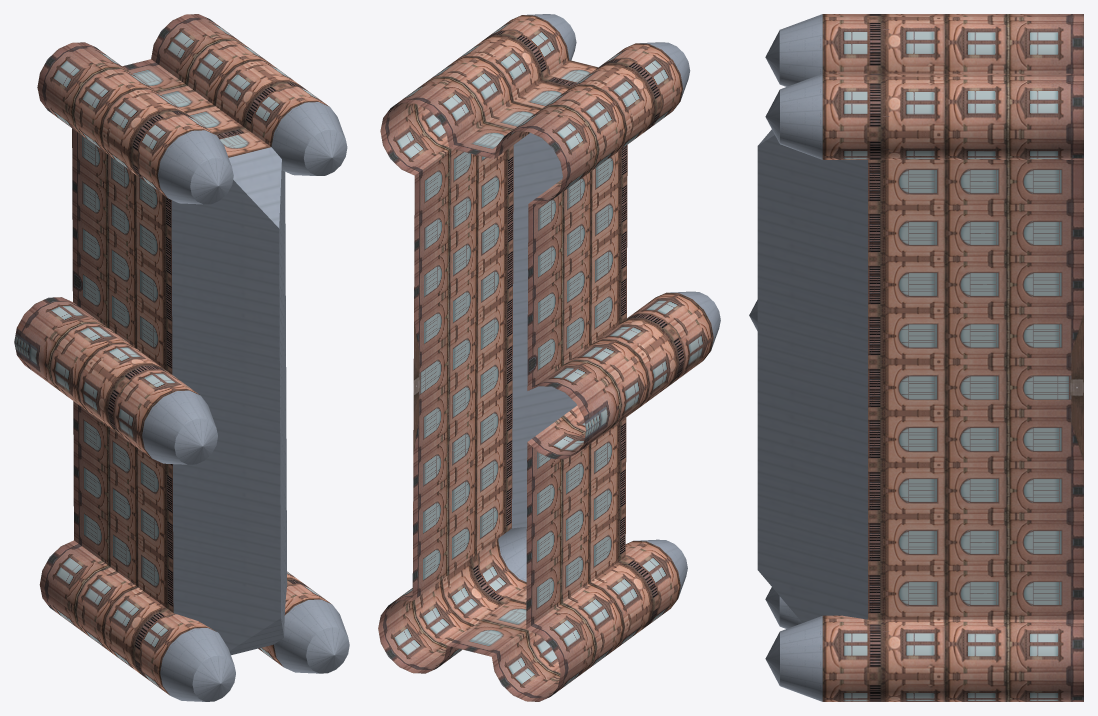
File: DEU_604_KARLSRUHE_SCHLOSS_S.OBJ
3 renders of one model, left to right at view 1: azimuth 30°, elevation 25°; view 2: azimuth 150°, elevation 25°; view 3: azimuth 270°, elevation 25°, orthographic. The views are drawn at different scales.
Visible parts, largest first — view 1: DEU_604_KARLSRUHE_SCHLOSS_S; view 2: DEU_604_KARLSRUHE_SCHLOSS_S; view 3: DEU_604_KARLSRUHE_SCHLOSS_S.
Boxes of the visible parts, x1,y1,x2,y2 form: DEU_604_KARLSRUHE_SCHLOSS_S: (14,14,349,701); DEU_604_KARLSRUHE_SCHLOSS_S: (378,14,720,701); DEU_604_KARLSRUHE_SCHLOSS_S: (749,14,1083,701).
Bounding box in the file's own units: 24.18 × 63.34 × 31.01.
Materials: 1 (1 with a texture image).
